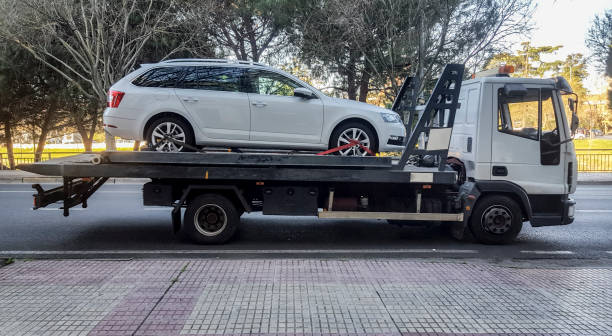Car: (99, 49, 407, 158)
Truck: (15, 28, 583, 258)
